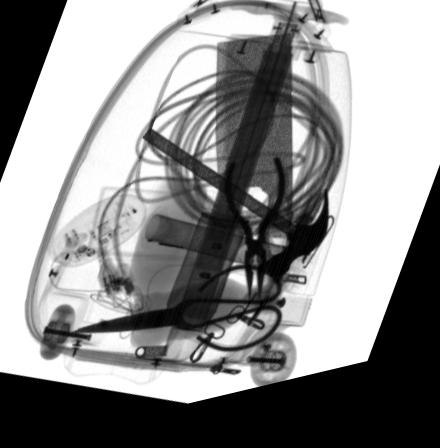Hammer: (139, 134, 328, 294)
Knife: (213, 46, 292, 245)
Pliers: (222, 169, 286, 311)
Scissors: (69, 274, 284, 364)
